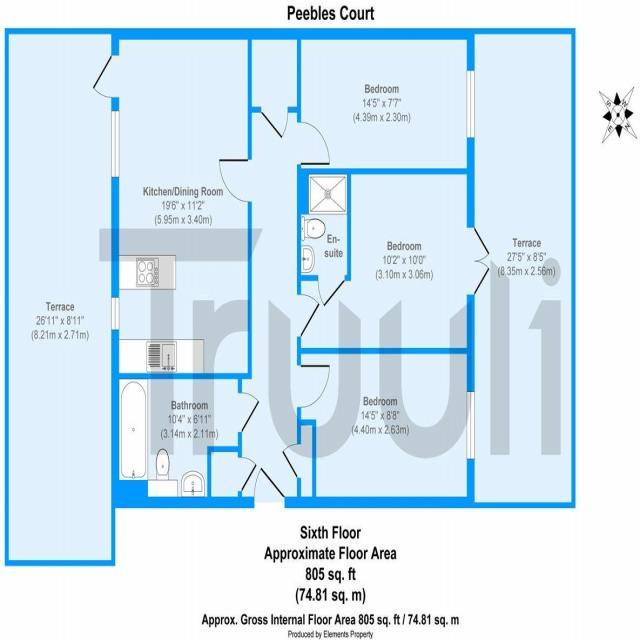DOOR: (297, 359, 335, 418), (296, 120, 331, 166), (297, 291, 323, 346), (253, 465, 286, 508), (238, 390, 261, 440), (280, 442, 301, 485), (238, 455, 258, 496)
DOUBLE DOOR: (466, 223, 492, 300), (215, 154, 253, 204)
ROOM: (91, 27, 252, 380), (297, 168, 492, 356), (280, 349, 476, 509), (297, 26, 475, 174)
WINDOW: (464, 386, 477, 465), (110, 109, 120, 179), (110, 296, 120, 332)
